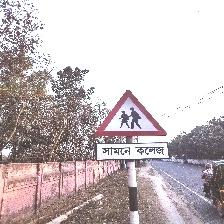College-in-front: (93, 69, 191, 185)
